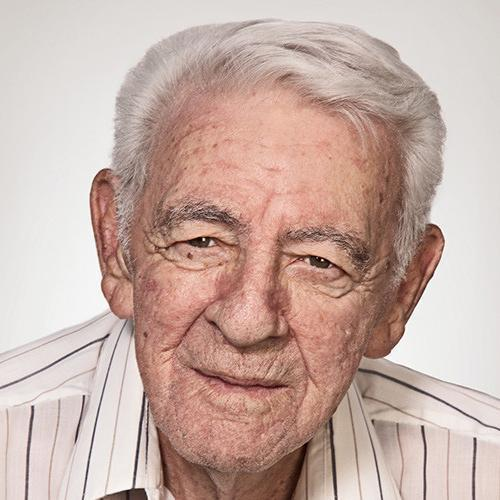Sober: (132, 100, 369, 463)
